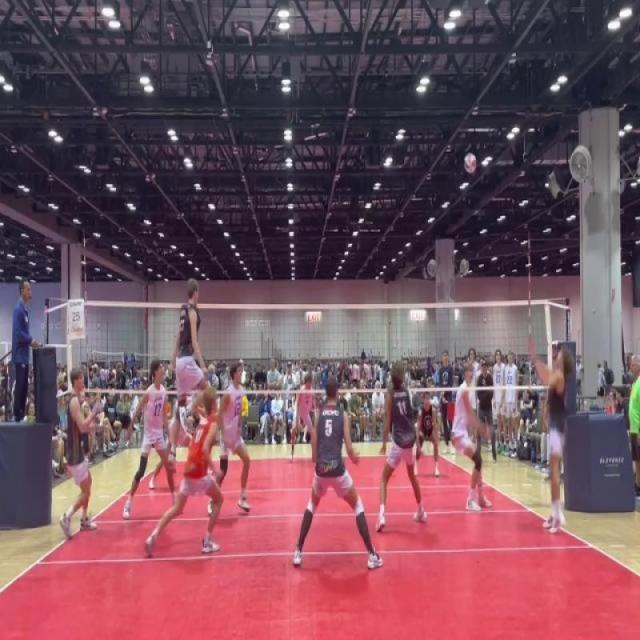volleyball: (462, 149, 479, 179)
